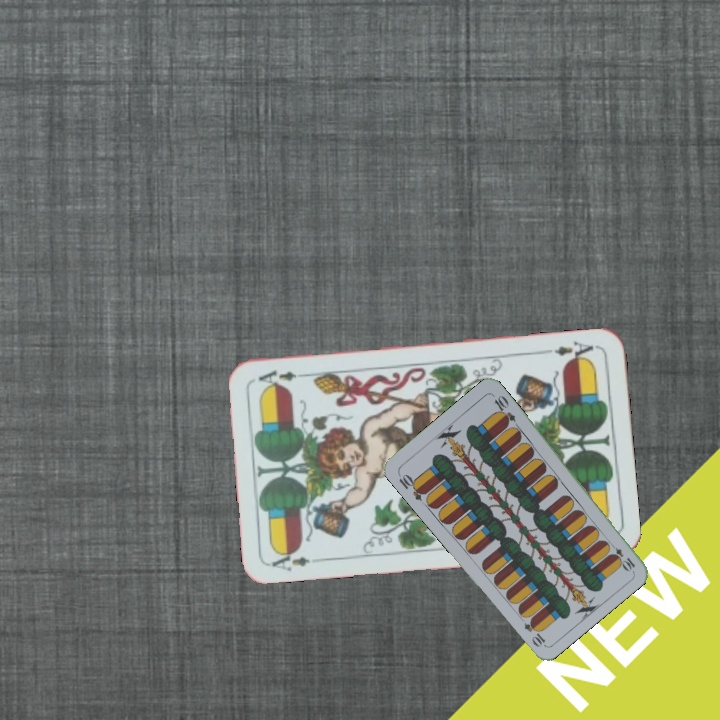E10: (604, 538, 638, 573), (394, 469, 429, 503)
EA: (540, 336, 599, 364), (268, 546, 326, 574)
